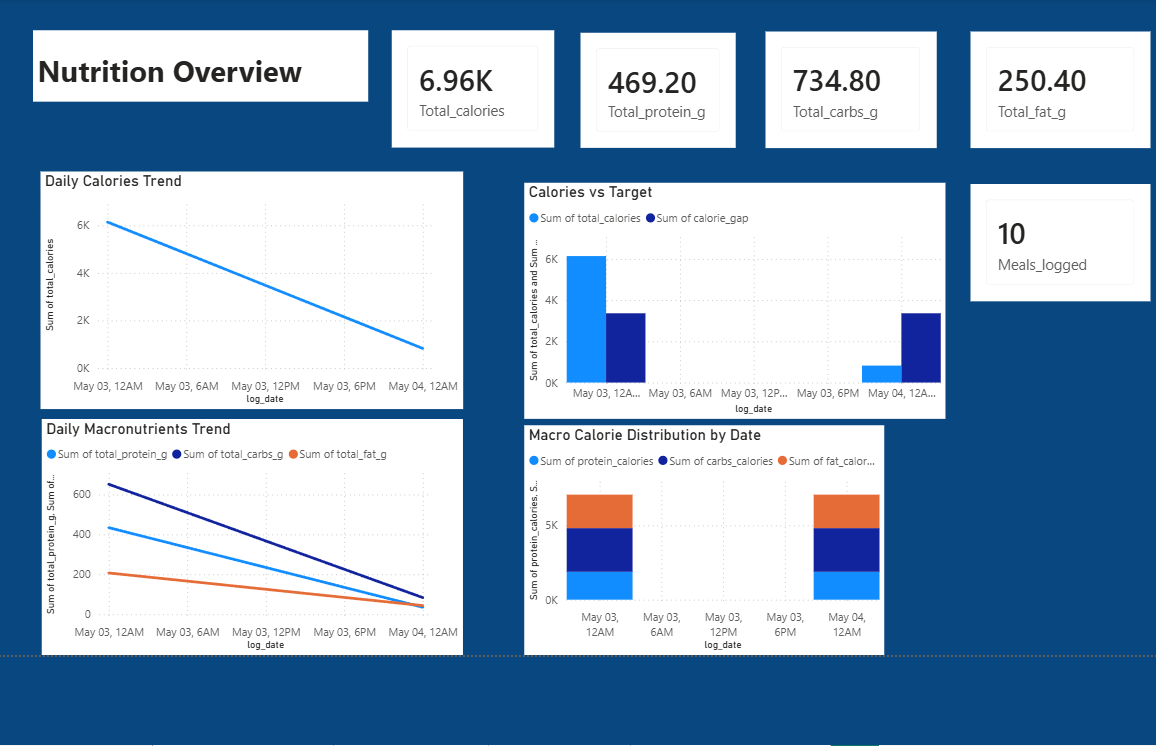

What the dashboard file says about the page in this screenshot:
{"tool":"powerbi","page":{"name":"Nutrition Overview","canvas":[1280,720],"ordinal":0},"visuals":[{"type":"cardVisual","fields":{"Data":["Sum(mart vw_daily_nutrition_summary.total_calories)"]},"box":[437.7,34.3,178.4,129],"z":0},{"type":"cardVisual","fields":{"Data":["Sum(mart vw_daily_nutrition_summary.total_protein_g)"]},"box":[644.9,37,170.2,126.2],"z":1000},{"type":"cardVisual","fields":{"Data":["Sum(mart vw_daily_nutrition_summary.meals_logged)"]},"box":[1073.1,203.1,197.6,129],"z":2000},{"type":"cardVisual","fields":{"Data":["Sum(mart vw_daily_nutrition_summary.total_carbs_g)"]},"box":[848,35.7,188,127.6],"z":3000},{"type":"cardVisual","fields":{"Data":["Sum(mart vw_daily_nutrition_summary.total_fat_g)"]},"box":[1073.1,35.7,197.6,127.6],"z":4000},{"type":"lineChart","title":"Daily Calories Trend","fields":{"Category":["mart vw_daily_nutrition_summary.log_date"],"Y":["Sum(mart vw_daily_nutrition_summary.total_calories)"]},"box":[52.1,189.4,463.8,260.7],"z":5000},{"type":"lineChart","title":"Daily Macronutrients Trend","fields":{"Category":["mart vw_daily_nutrition_summary.log_date"],"Y":["Sum(mart vw_daily_nutrition_summary.total_protein_g)","Sum(mart vw_daily_nutrition_summary.total_carbs_g)","Sum(mart vw_daily_nutrition_summary.total_fat_g)"]},"box":[53.5,461.1,462.4,259.3],"z":6000},{"type":"lineClusteredColumnComboChart","title":"Calories vs Target","fields":{"Y":["Sum(mart vw_daily_nutrition_summary.total_calories)","Sum(mart vw_target_vs_actual.calorie_gap)"],"Category":["mart vw_daily_nutrition_summary.log_date"]},"box":[583.2,201.7,462.4,259.3],"z":7000},{"type":"columnChart","title":"Macro Calorie Distribution by Date","fields":{"Category":["mart vw_daily_nutrition_summary.log_date"],"Y":["Sum(mart vw_macro_calorie_distribution.protein_calories)","Sum(mart vw_macro_calorie_distribution.carbs_calories)","Sum(mart vw_macro_calorie_distribution.fat_calories)"]},"box":[583.2,467.9,395.2,252.5],"z":8000},{"type":"textbox","box":[43.9,34.3,367.8,78.2],"z":9000}]}

Visuals, with their boxes in screenshot pixels (x1, y1, x2, y2):
cardVisual - Sum(mart vw_daily_nutrition_summary.total_calories): pyautogui.locateOnScreen(389, 26, 554, 145)
cardVisual - Sum(mart vw_daily_nutrition_summary.total_protein_g): pyautogui.locateOnScreen(580, 28, 738, 145)
cardVisual - Sum(mart vw_daily_nutrition_summary.meals_logged): pyautogui.locateOnScreen(976, 182, 1155, 301)
cardVisual - Sum(mart vw_daily_nutrition_summary.total_carbs_g): pyautogui.locateOnScreen(768, 27, 942, 145)
cardVisual - Sum(mart vw_daily_nutrition_summary.total_fat_g): pyautogui.locateOnScreen(976, 27, 1155, 145)
"Daily Calories Trend" lineChart: pyautogui.locateOnScreen(33, 169, 461, 410)
"Daily Macronutrients Trend" lineChart: pyautogui.locateOnScreen(34, 420, 461, 659)
"Calories vs Target" lineClusteredColumnComboChart: pyautogui.locateOnScreen(523, 180, 950, 420)
"Macro Calorie Distribution by Date" columnChart: pyautogui.locateOnScreen(523, 426, 888, 659)
textbox: pyautogui.locateOnScreen(25, 26, 365, 98)
